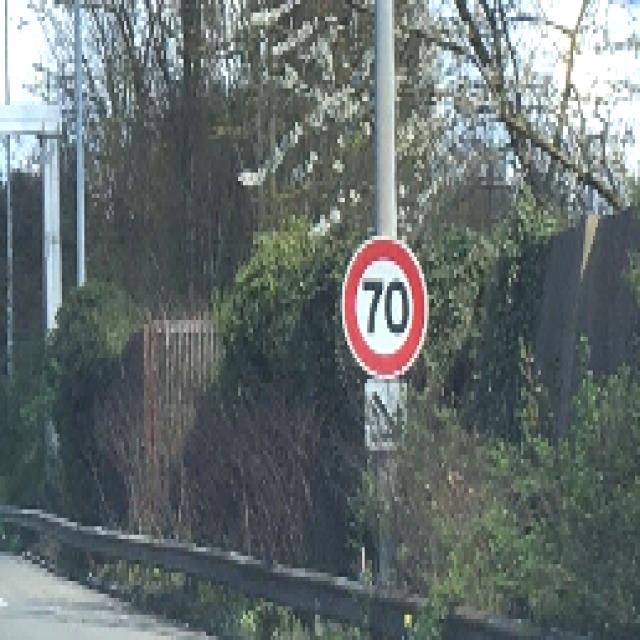speed_70: (340, 233, 429, 382)
